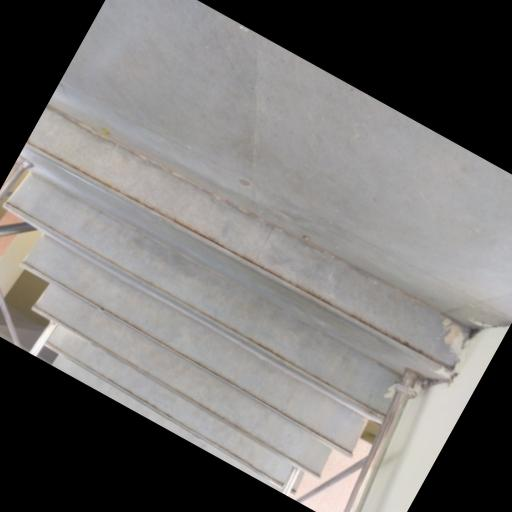stairs: (5, 107, 468, 487)
